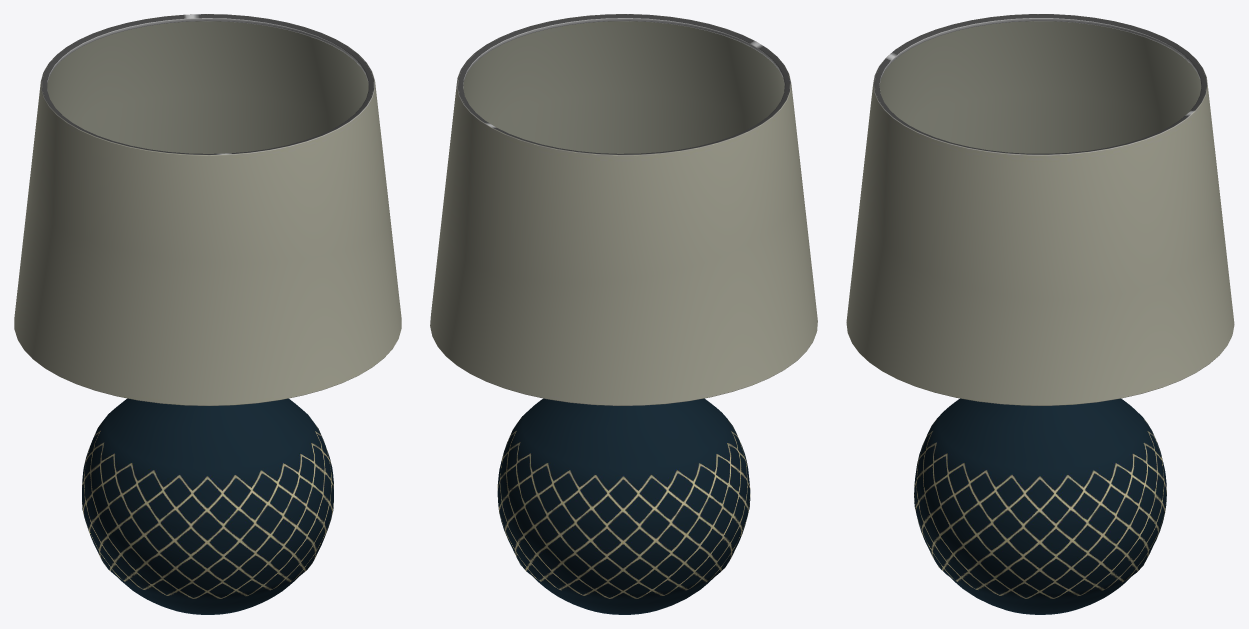
File: lamp_B075X12QV9.glb
The picture shows the model from 3 angles, left to right: view 1: azimuth 30°, elevation 25°; view 2: azimuth 150°, elevation 25°; view 3: azimuth 270°, elevation 25°; orthographic projection.
Visible parts, largest first — view 1: RootNode; view 2: RootNode; view 3: RootNode.
Boxes of the visible parts, x1=… form: RootNode: x1=14, y1=14, x2=401, y2=614; RootNode: x1=430, y1=14, x2=817, y2=614; RootNode: x1=846, y1=14, x2=1234, y2=614.
Size of the model in its own units: 0.3753 by 0.5403 by 0.3757.
1 material, 1 textured.
